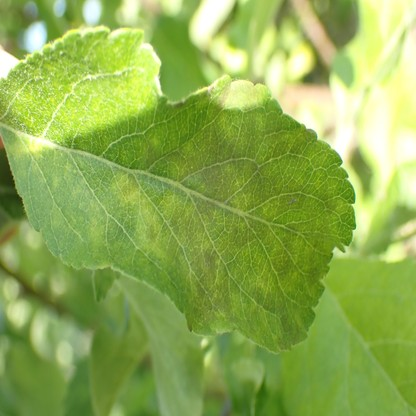scab: (117, 78, 338, 351), (52, 162, 103, 244)
